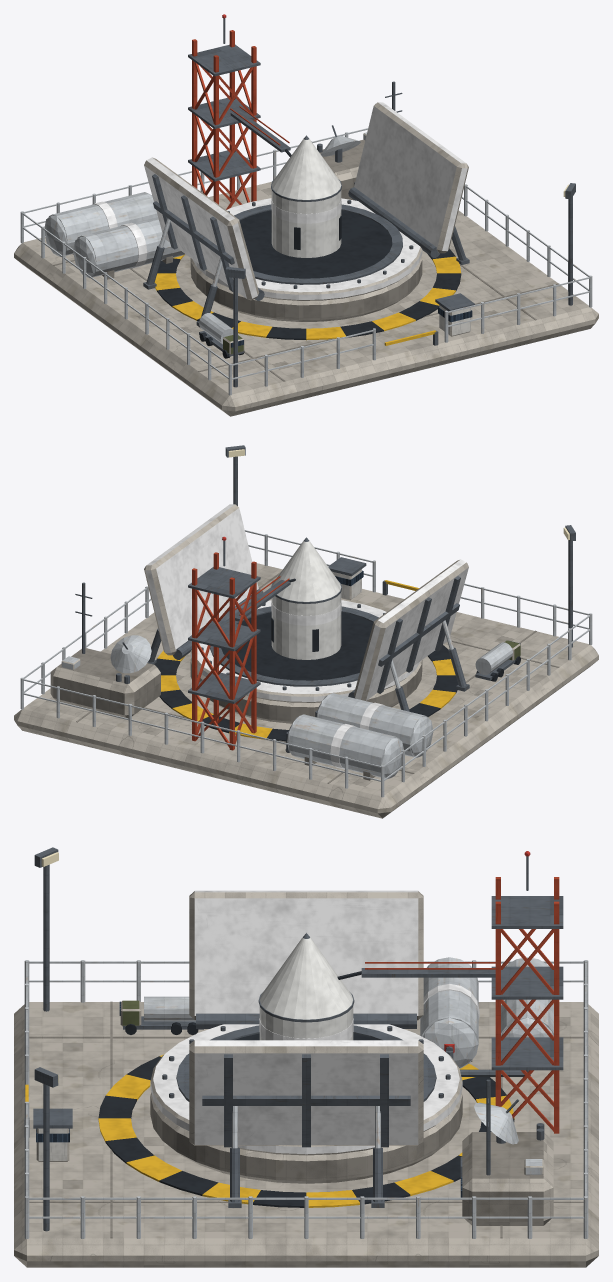
File: missile_silo.gltf
3 renders of one model, top to bottom at view 1: azimuth 30°, elevation 25°; view 2: azimuth 150°, elevation 25°; view 3: azimuth 270°, elevation 25°, orthographic. The views are drawn at different scales.
Visible parts, largest first — view 1: MissileSilo; view 2: MissileSilo; view 3: MissileSilo.
Boxes of the visible parts, x1,y1,x2,y2 form: MissileSilo: (14, 14, 598, 416); MissileSilo: (14, 445, 598, 818); MissileSilo: (14, 847, 598, 1267).
Bounding box in the file's own units: 0.9 × 0.507 × 0.9.
Materials: 14 (12 with a texture image).
